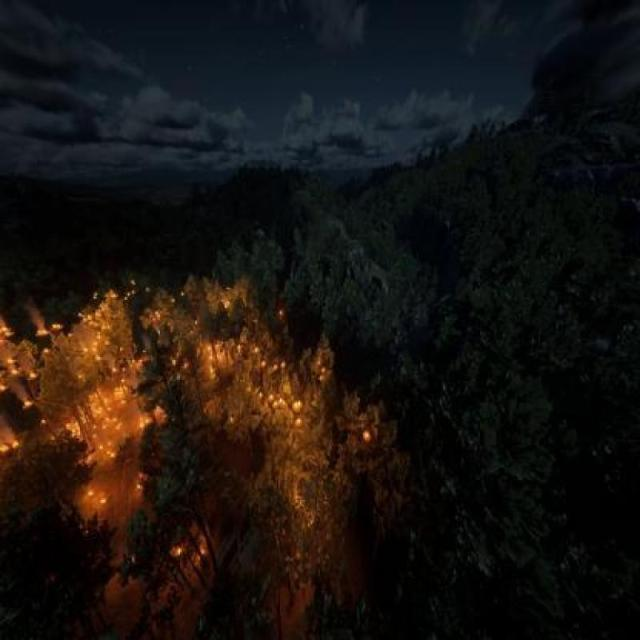Fire: (1, 269, 386, 577)
